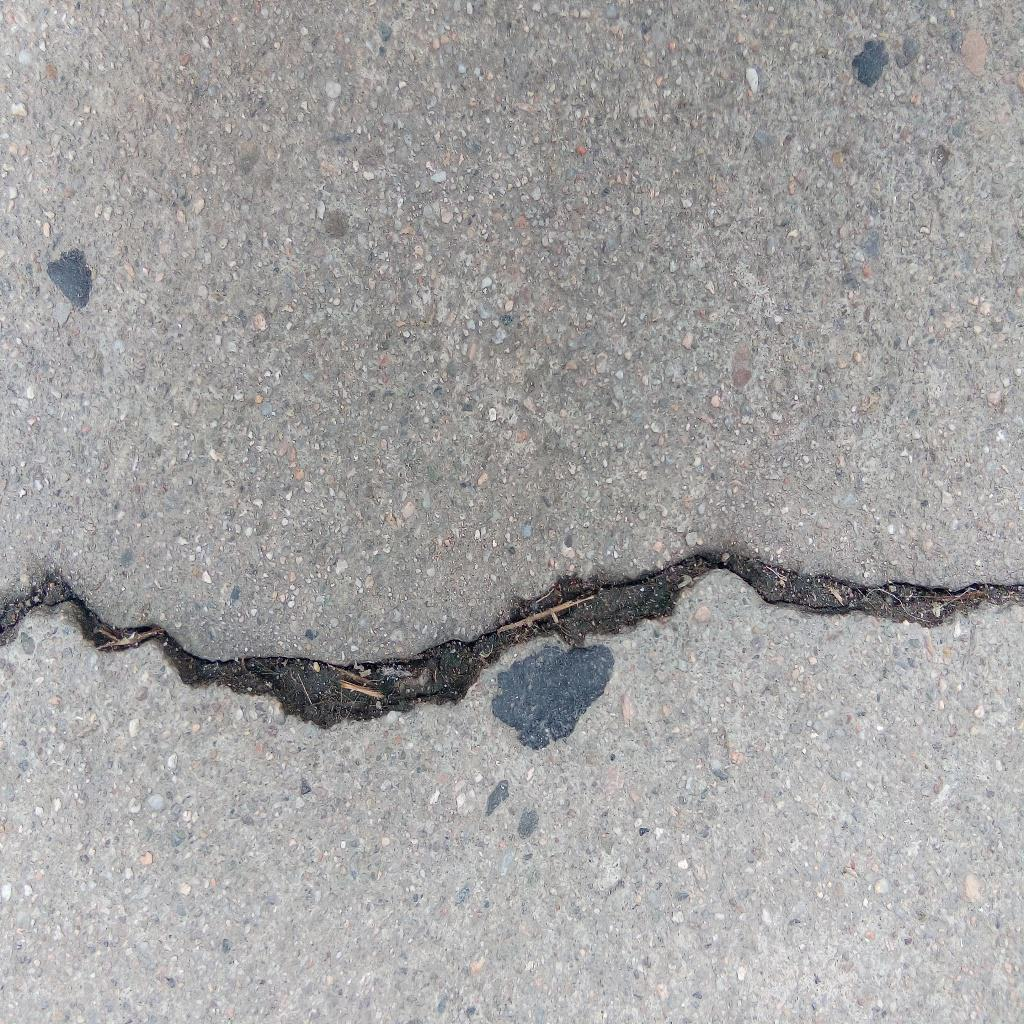Crack: (1, 546, 1024, 731)
